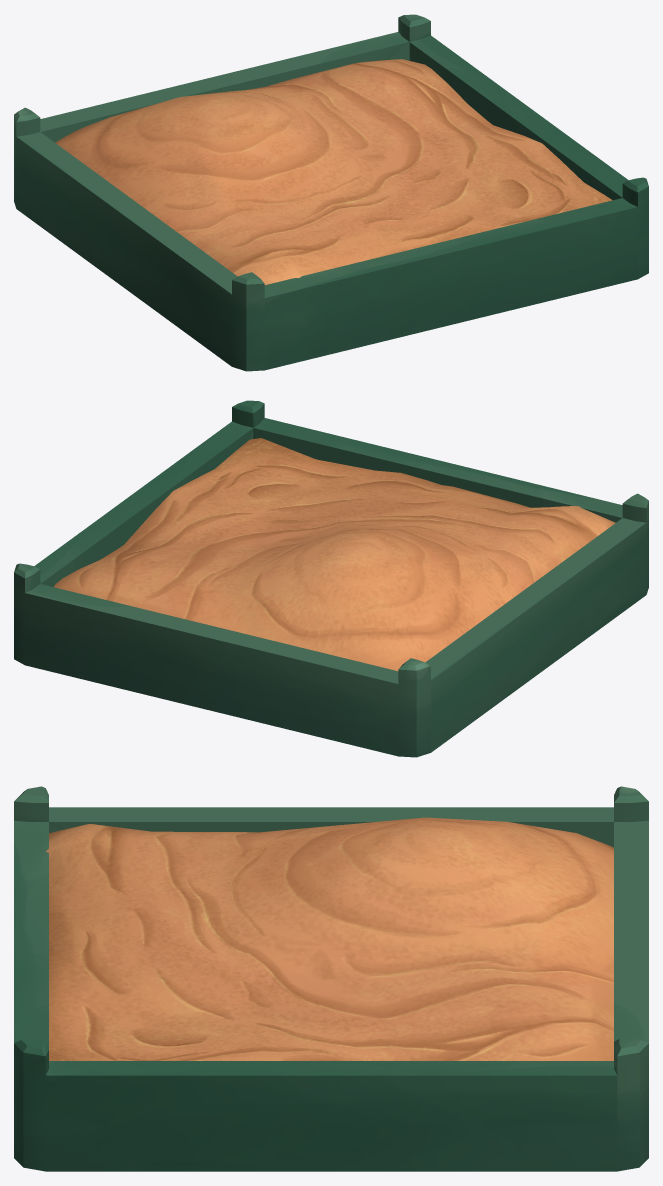
Rendered from sandbox.fbx.
3 views of the same model, one above another, from view 1: azimuth 30°, elevation 25°; view 2: azimuth 150°, elevation 25°; view 3: azimuth 270°, elevation 25° (orthographic). The views are drawn at different scales.
Visible parts, largest first — view 1: Cube.007; view 2: Cube.007; view 3: Cube.007.
Part boxes in pixels (x1,y1,x2,y2): Cube.007: [14, 14, 648, 371]; Cube.007: [14, 400, 648, 757]; Cube.007: [14, 786, 648, 1171].
Bounding box in the file's own units: 1200 × 328 × 1200.
